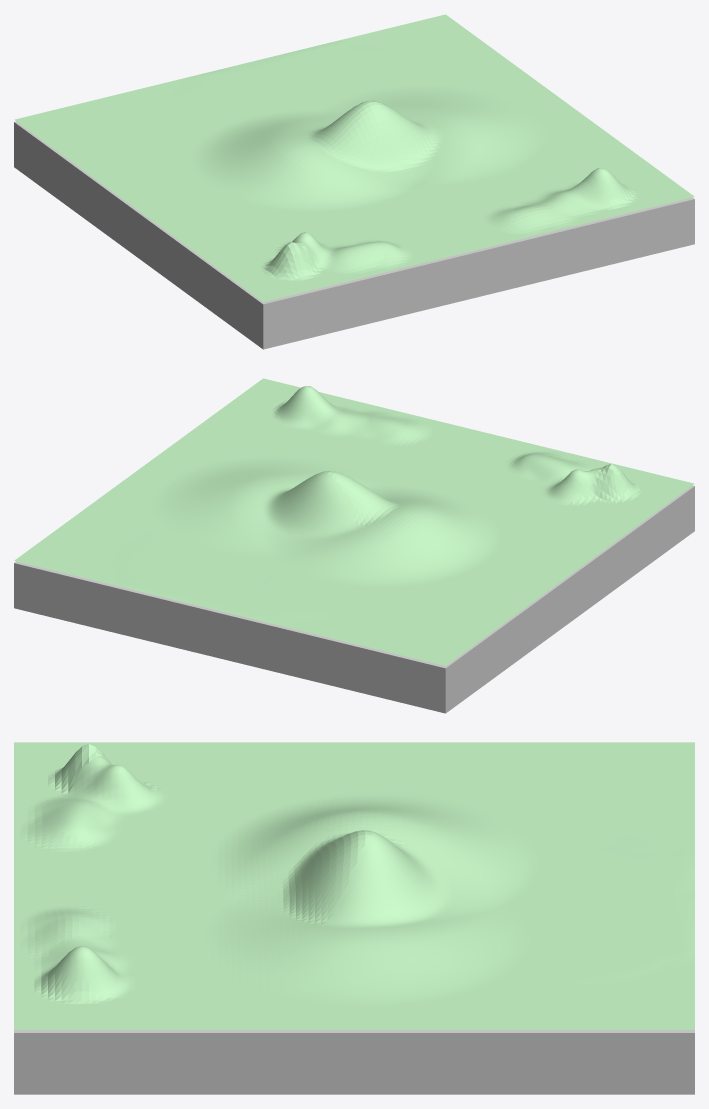
File: custom_world_2.dae
The picture shows the model from 3 angles, top to bottom: view 1: azimuth 30°, elevation 25°; view 2: azimuth 150°, elevation 25°; view 3: azimuth 270°, elevation 25°; orthographic projection. The views are drawn at different scales.
Parts seen in each view (by area): view 1: group_0, SketchUp; view 2: group_0, SketchUp; view 3: group_0, SketchUp.
Part boxes in pixels (left/top/right/bottom): group_0: left=14, top=14, right=694, bottom=301; SketchUp: left=14, top=121, right=694, bottom=349; group_0: left=14, top=378, right=694, bottom=665; SketchUp: left=14, top=485, right=694, bottom=713; group_0: left=14, top=742, right=694, bottom=1029; SketchUp: left=14, top=1030, right=694, bottom=1094.
Size of the model in its own units: 20 by 20 by 4.23.
